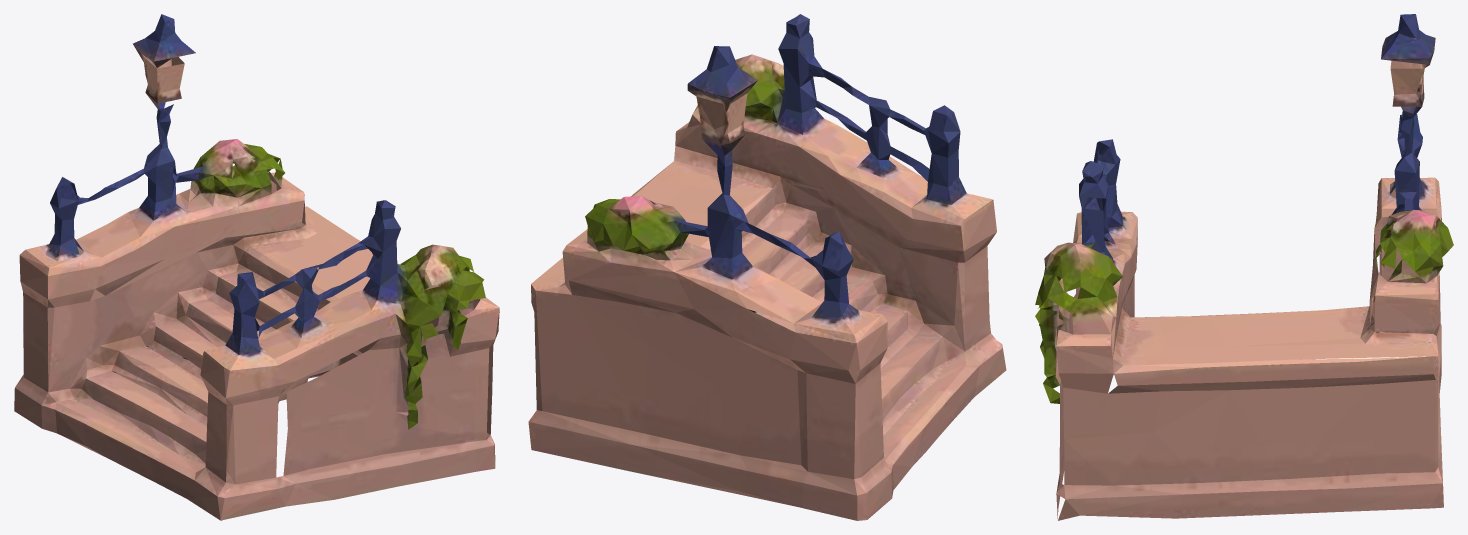
Rendered from M-13_03_stairs.glb.
The picture shows the model from 3 angles, left to right: view 1: azimuth 30°, elevation 25°; view 2: azimuth 150°, elevation 25°; view 3: azimuth 270°, elevation 25°; orthographic projection. The views are drawn at different scales.
Parts seen in each view (by area): view 1: loA; view 2: loA; view 3: loA.
Boxes of the visible parts, left/top/right/bottom form: loA: left=14, top=14, right=499, bottom=520; loA: left=528, top=14, right=1006, bottom=520; loA: left=1035, top=14, right=1453, bottom=520.
Size of the model in its own units: 5.78 by 6.64 by 6.07.
Materials: 1 (1 with a texture image).
